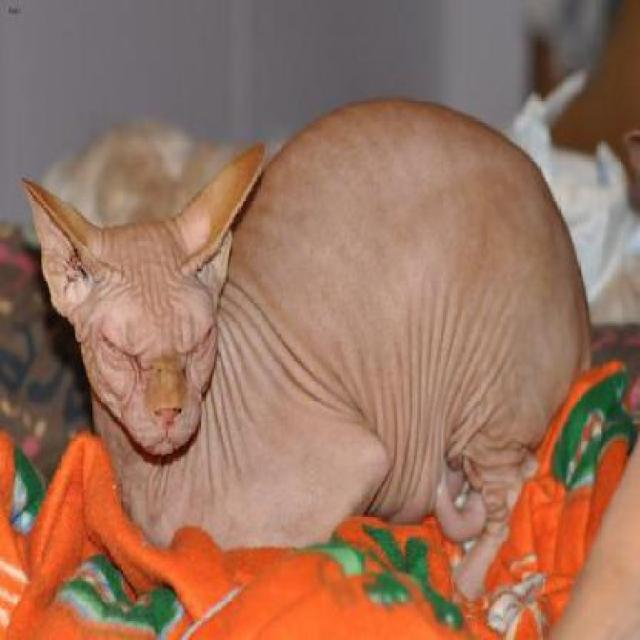cat: (21, 96, 592, 582)
